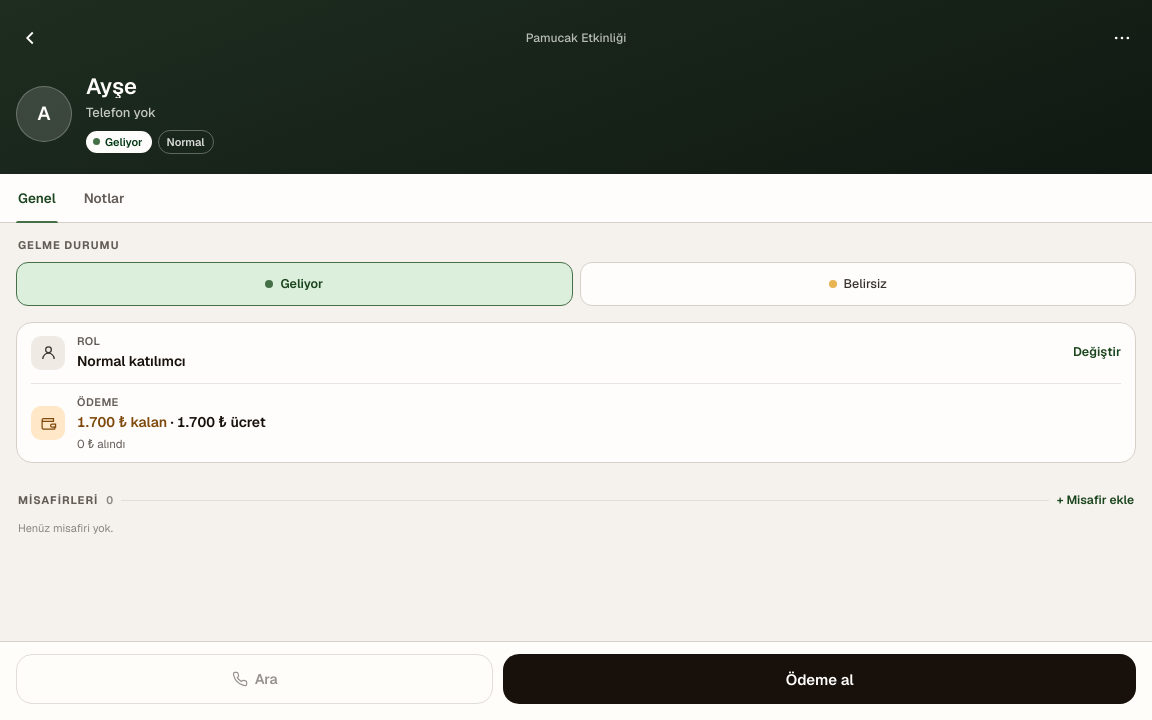
Scenario: Katılımcı profili not günlüğü › boş not gönderilmez
Step 1. Click the tab "Notlar" → (104, 198), box [82,174,126,222]
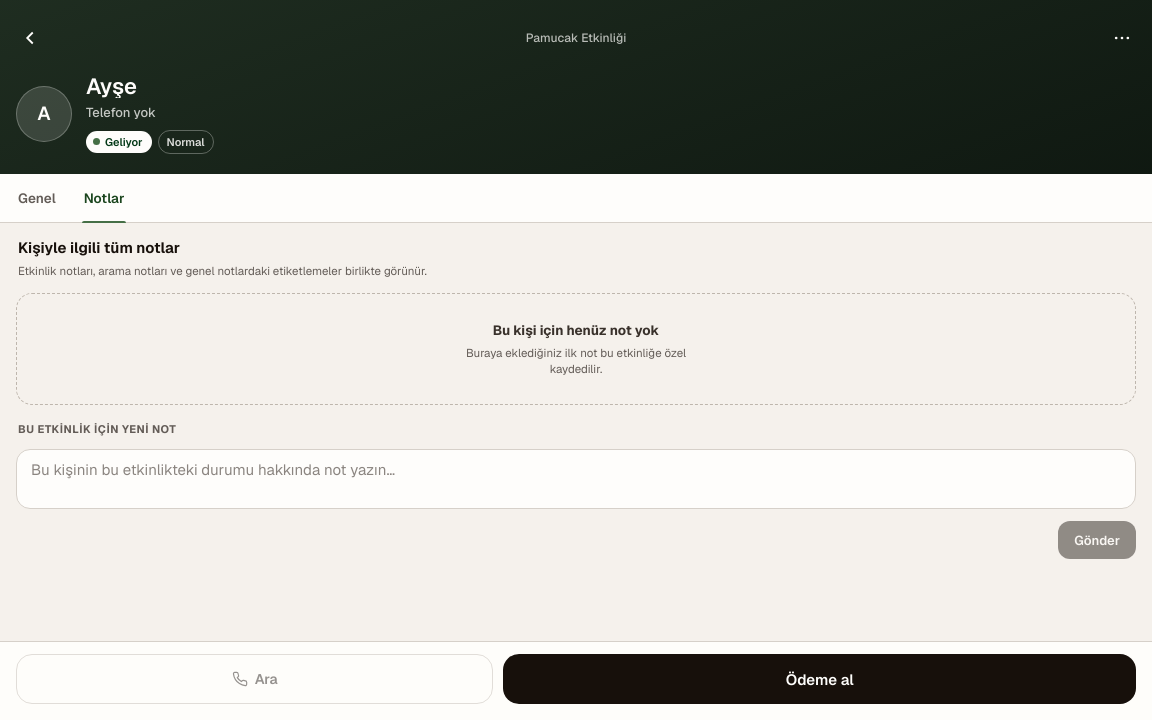
expect the text "Bu kişi için henüz not yok" is shown: met, box [493,320,659,340]
expect the button "Gönder" is disabled: met, box [1058,521,1136,559]
